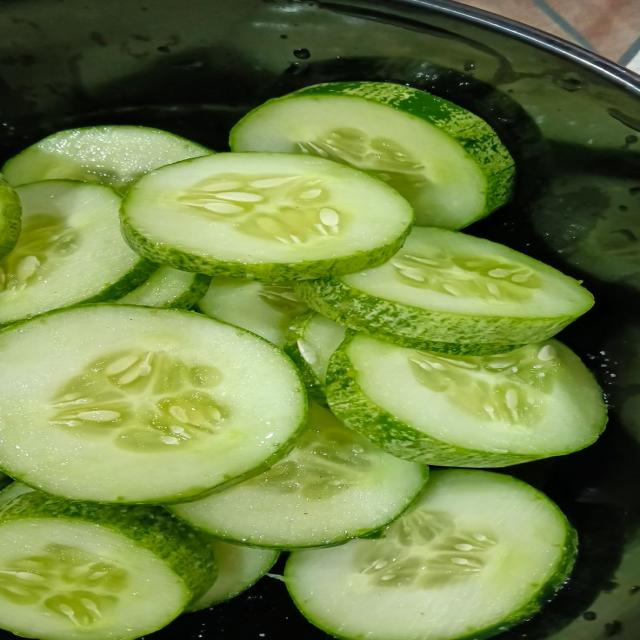cucumber sliced: (0, 305, 306, 502), (286, 470, 575, 639), (231, 82, 513, 228), (295, 228, 593, 354), (121, 153, 413, 281), (325, 333, 606, 466), (169, 405, 427, 548), (0, 491, 215, 639), (0, 181, 156, 325), (2, 126, 211, 190), (198, 278, 307, 347), (187, 541, 279, 612), (285, 312, 346, 397), (120, 267, 211, 308), (0, 175, 20, 258), (0, 475, 35, 507), (0, 472, 11, 488)
